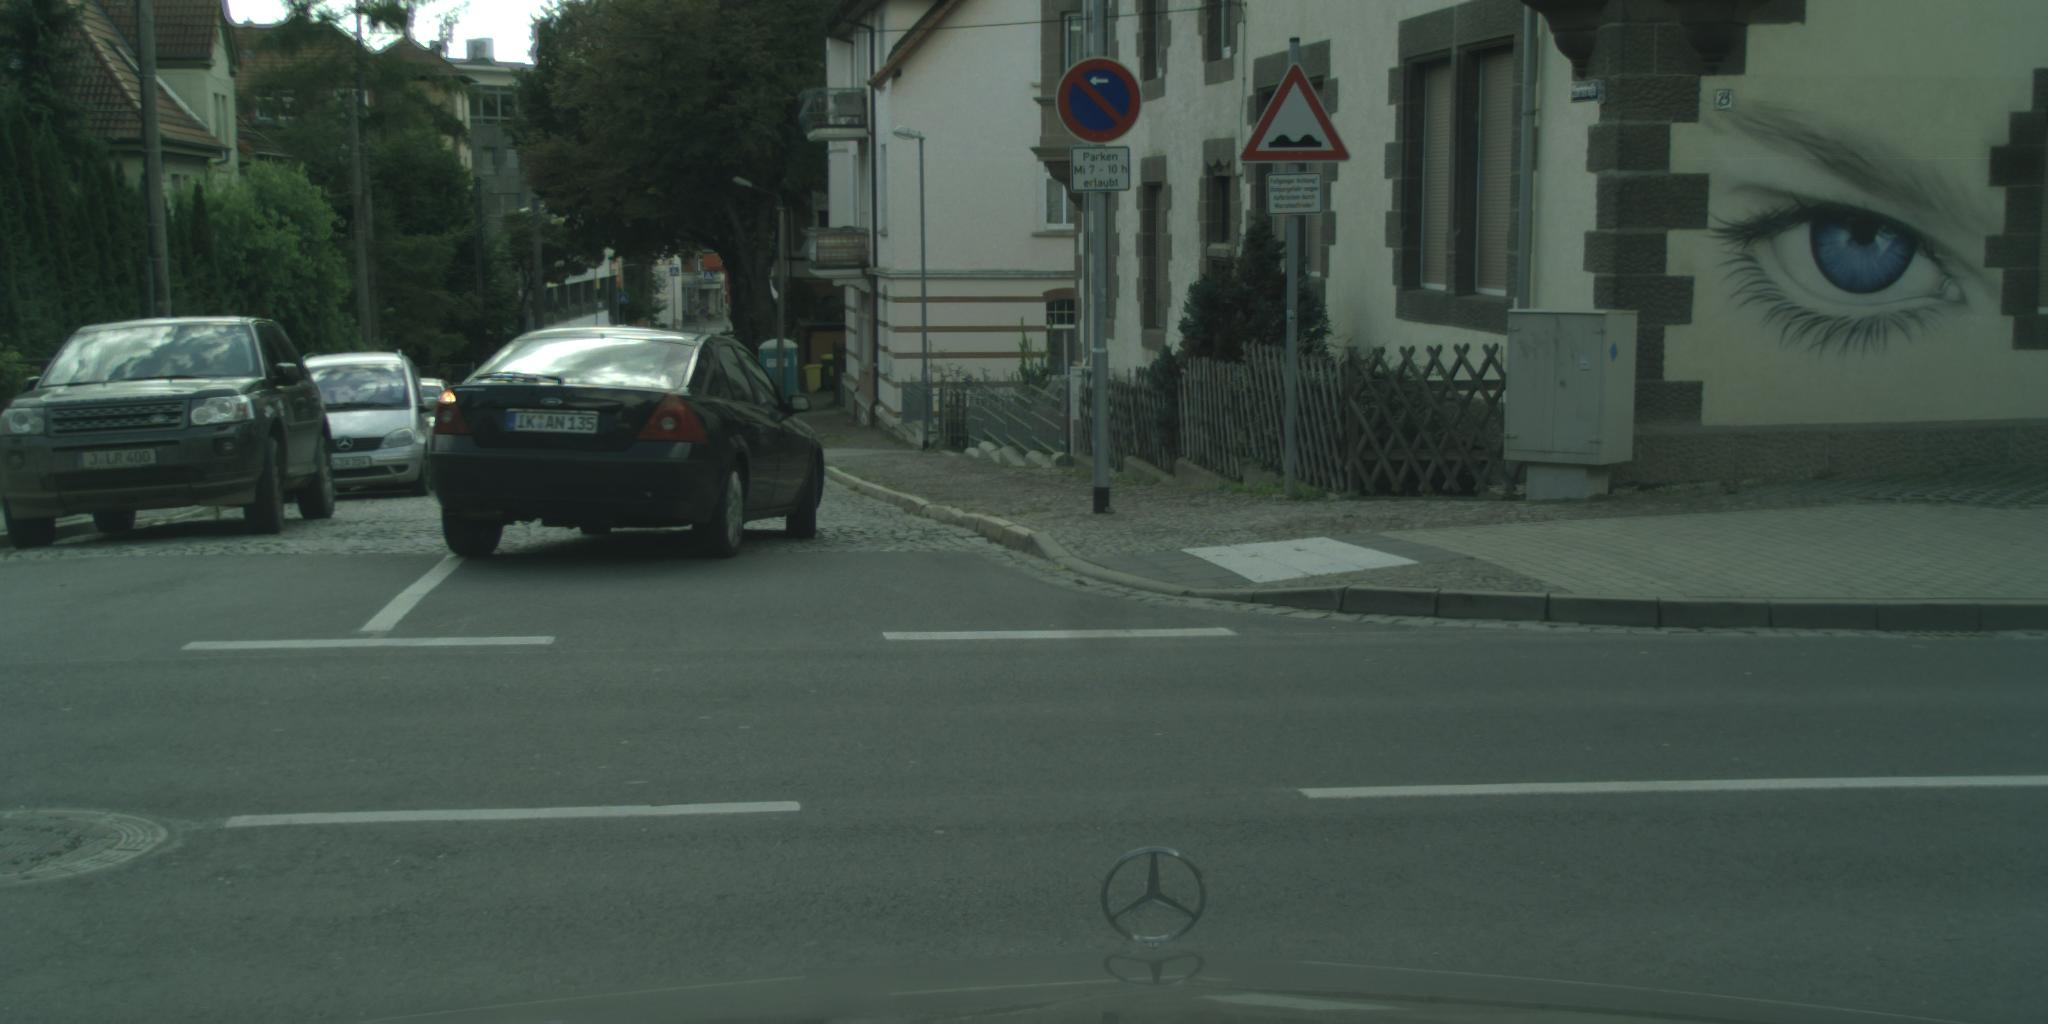car: (426, 327, 825, 563), (1, 316, 340, 552), (295, 347, 434, 499), (418, 379, 448, 445)
